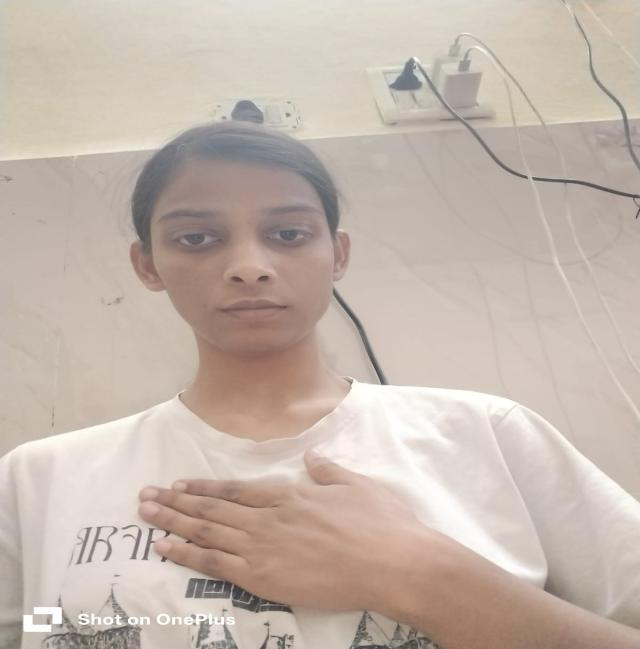Please: (128, 441, 453, 631)
